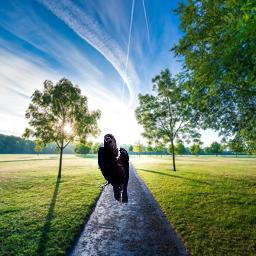Crow: (97, 133, 130, 205)
